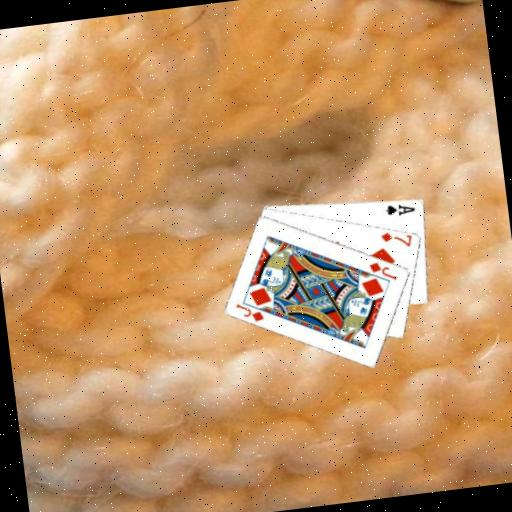7D: (378, 227, 414, 252)
AS: (383, 200, 418, 219)
JD: (232, 297, 266, 326), (366, 257, 399, 285)
